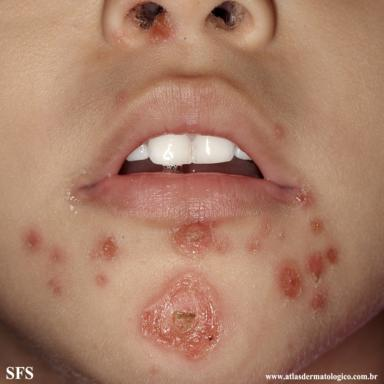Impetigo: (141, 272, 223, 362), (275, 244, 340, 320), (170, 221, 229, 258), (143, 10, 177, 44), (89, 232, 120, 263), (21, 226, 46, 253), (293, 182, 313, 208), (308, 215, 325, 234), (49, 246, 66, 265), (48, 277, 64, 296), (245, 236, 261, 254), (95, 273, 110, 288), (260, 219, 271, 236), (277, 231, 285, 240)
